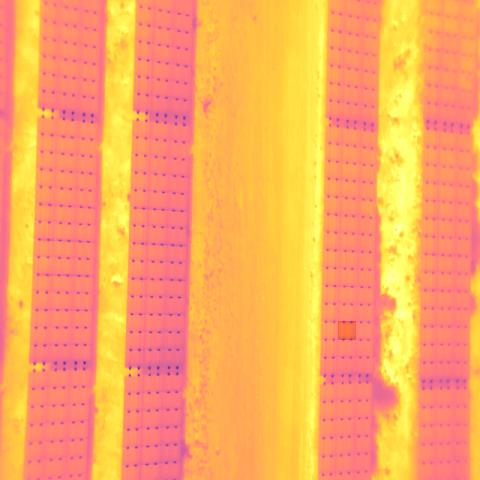fault: (338, 321, 356, 340)
